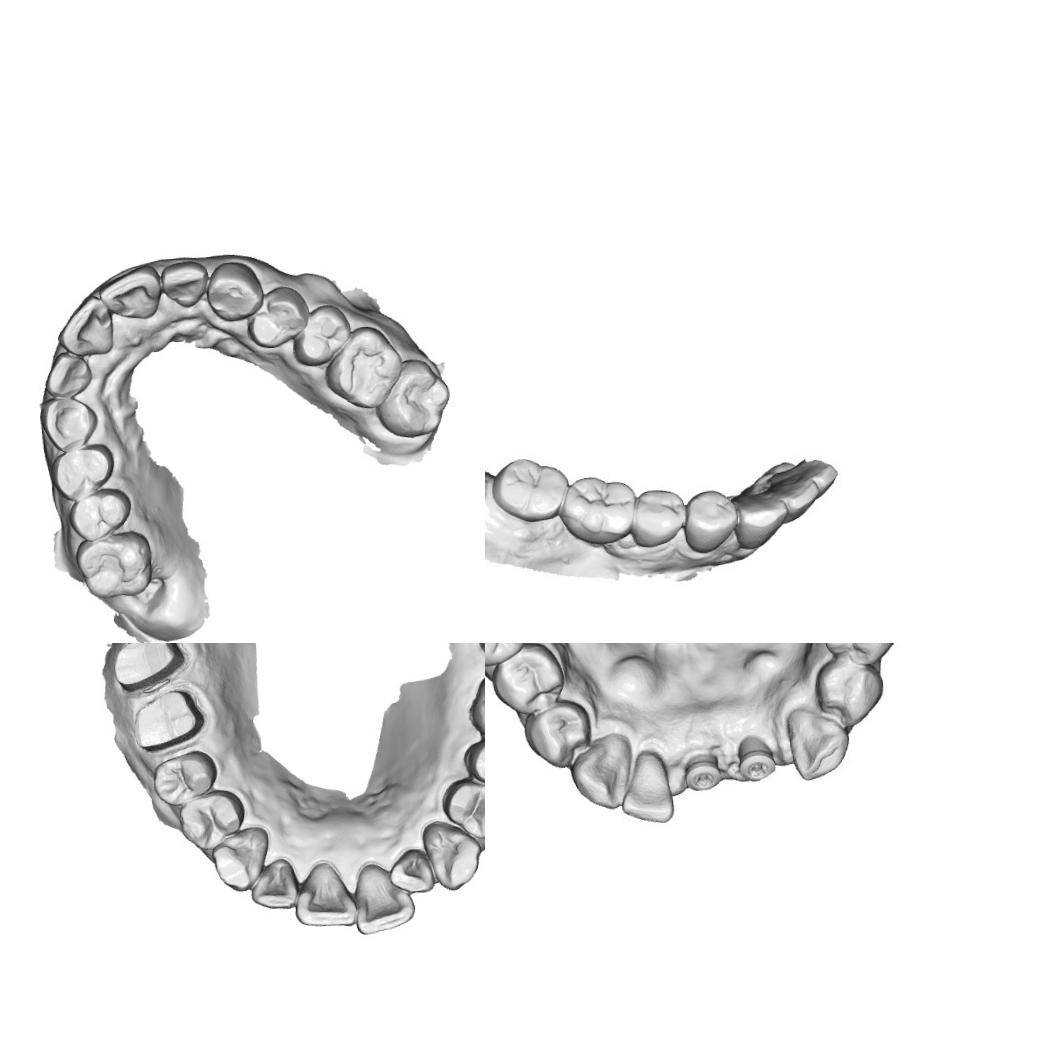canine: (784, 703, 854, 776), (420, 818, 483, 892), (208, 824, 272, 894), (571, 734, 633, 806), (205, 259, 266, 324), (36, 391, 100, 452), (731, 492, 790, 552)
crown: (128, 684, 208, 752), (109, 643, 190, 692)
implant_minus: (730, 724, 784, 795), (681, 740, 728, 798)
incisor: (352, 858, 416, 936), (292, 858, 358, 929), (619, 745, 678, 820), (56, 292, 119, 358), (96, 261, 161, 319), (158, 252, 211, 309), (248, 856, 300, 911), (766, 478, 824, 524), (43, 348, 93, 398), (386, 846, 436, 896), (780, 458, 840, 496)
molar: (321, 322, 405, 411), (557, 472, 639, 552), (373, 356, 452, 439), (72, 527, 155, 600), (488, 452, 570, 524), (466, 661, 485, 752)
premolar: (816, 652, 886, 728), (488, 643, 562, 714), (524, 694, 592, 764), (175, 786, 246, 852), (244, 282, 312, 348), (47, 441, 116, 502), (290, 302, 354, 367), (150, 748, 220, 806), (65, 484, 133, 542), (680, 487, 738, 555), (631, 484, 690, 548), (439, 774, 485, 842), (818, 643, 905, 671), (461, 735, 485, 795)
